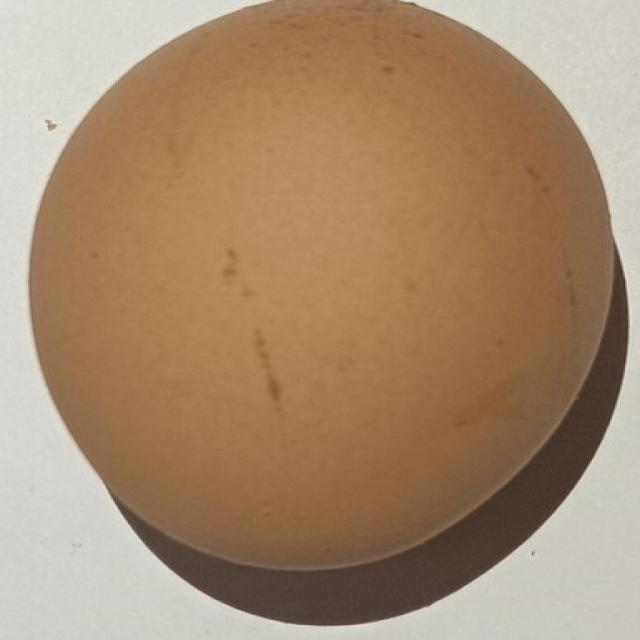fresh: (17, 0, 635, 579)
